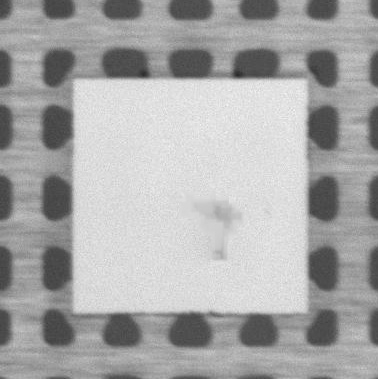DIE_INK: (179, 190, 238, 264)
